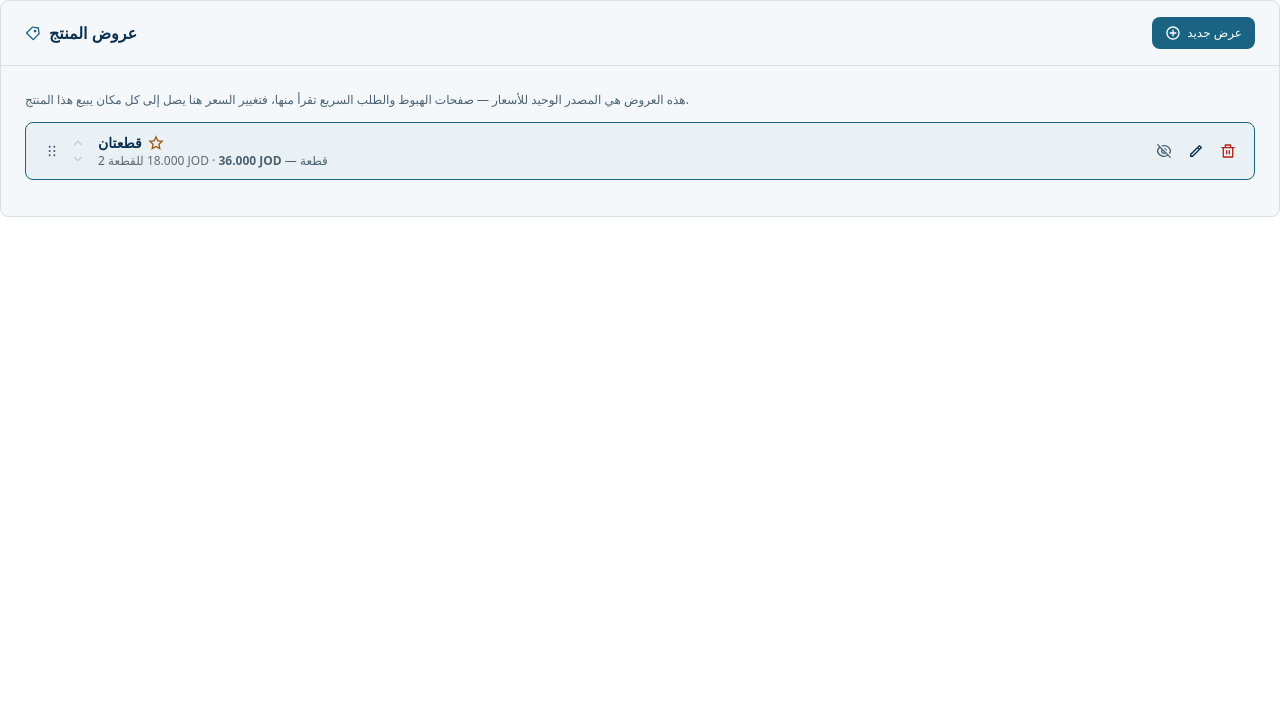
it: PATCH /api/offers/[id] — an edit, at the real door › and THAT SENTENCE IS DRAWN ON THE SCREEN, not swallowed
Click the button titled "تعديل".
click(1196, 150)  # box x1=1182 y1=136 x2=1210 y2=164
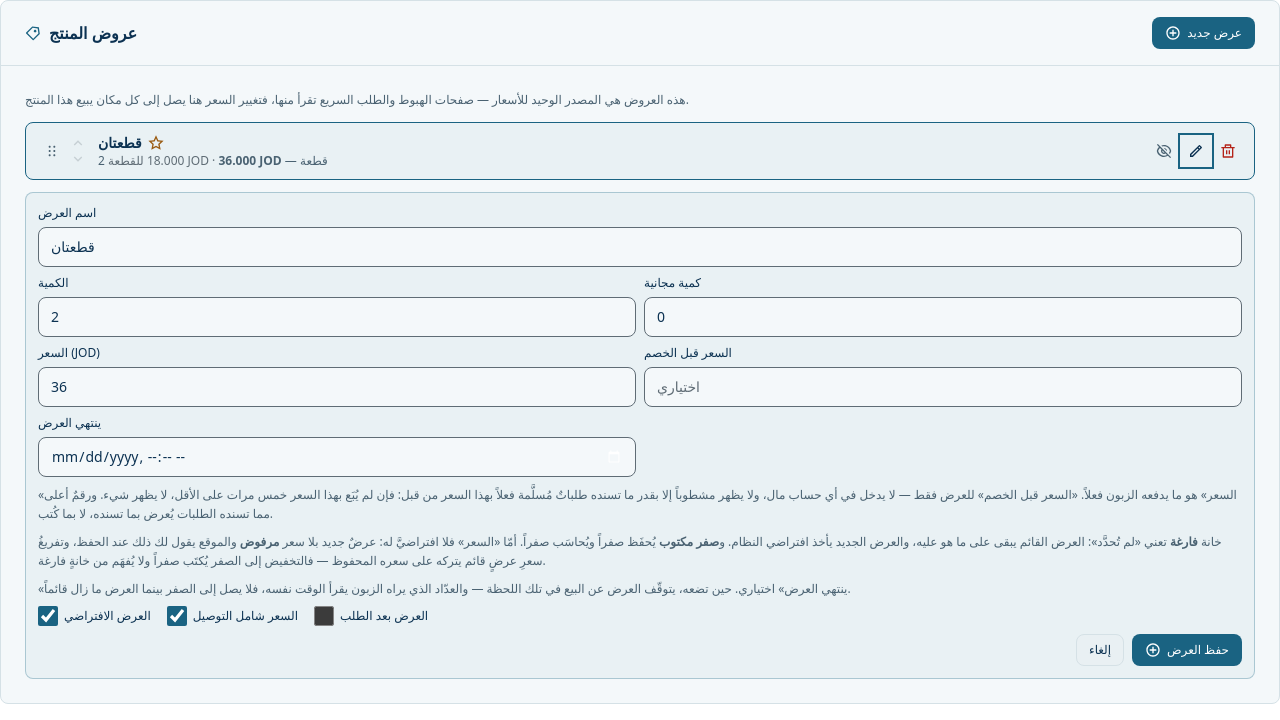
Expected: the number field labelled "الكمية" is shown, x1=38 y1=296 x2=636 y2=336
Replace the text in the number field labelled "السعر (JOD)" with "2" at coordinates (337, 386), box x1=38 y1=366 x2=636 y2=406
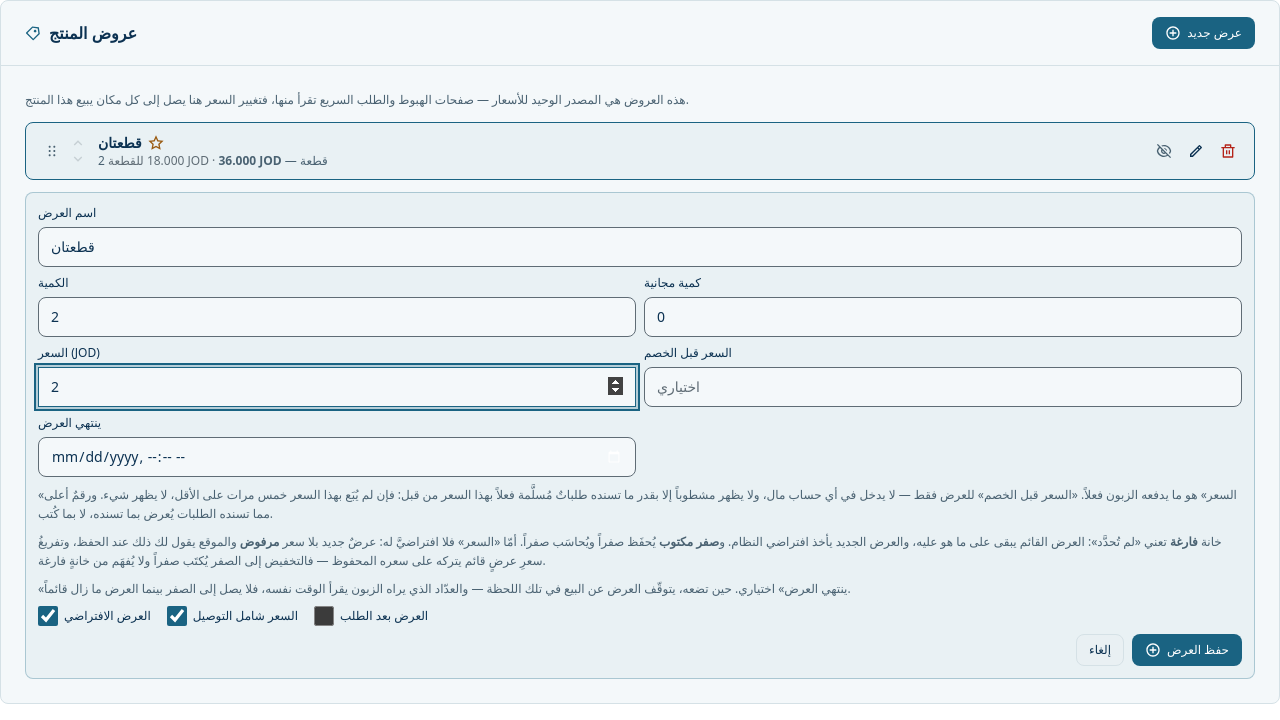
Click the button "حفظ العرض".
click(1187, 650)  # box x1=1132 y1=634 x2=1242 y2=666
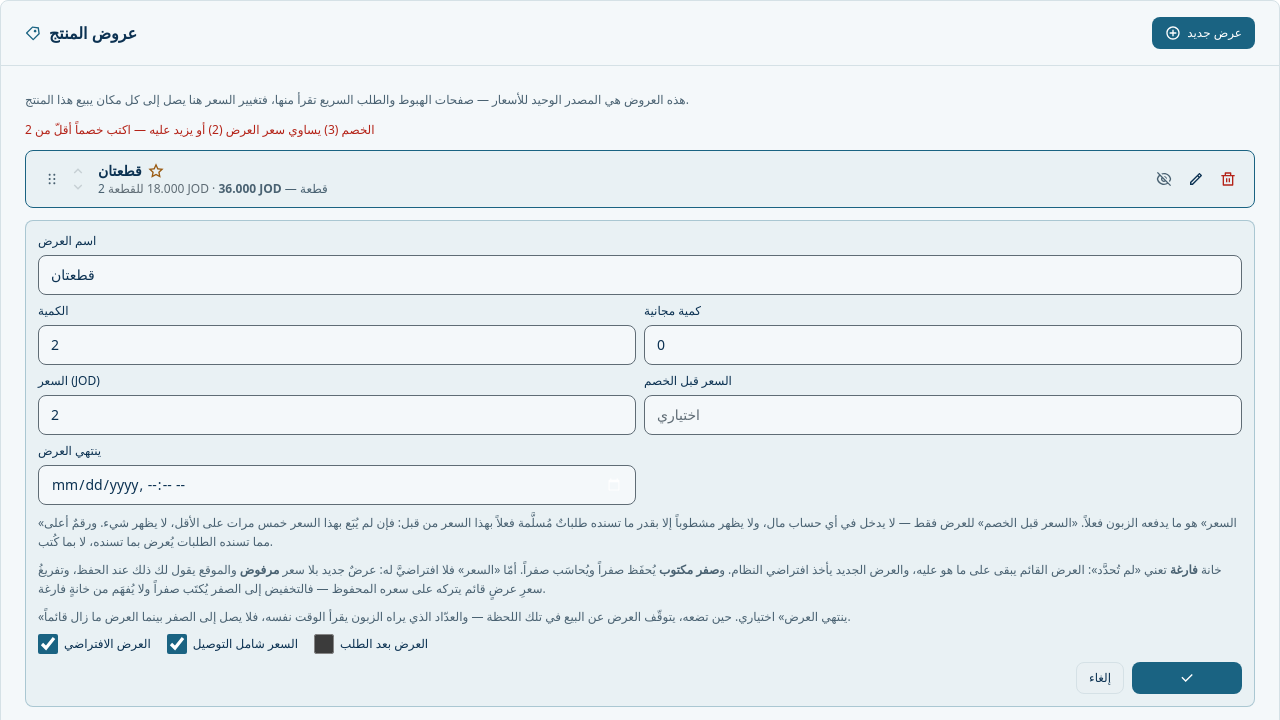
Expected: the text "يساوي سعر العرض" is shown, x1=25 y1=120 x2=375 y2=138
